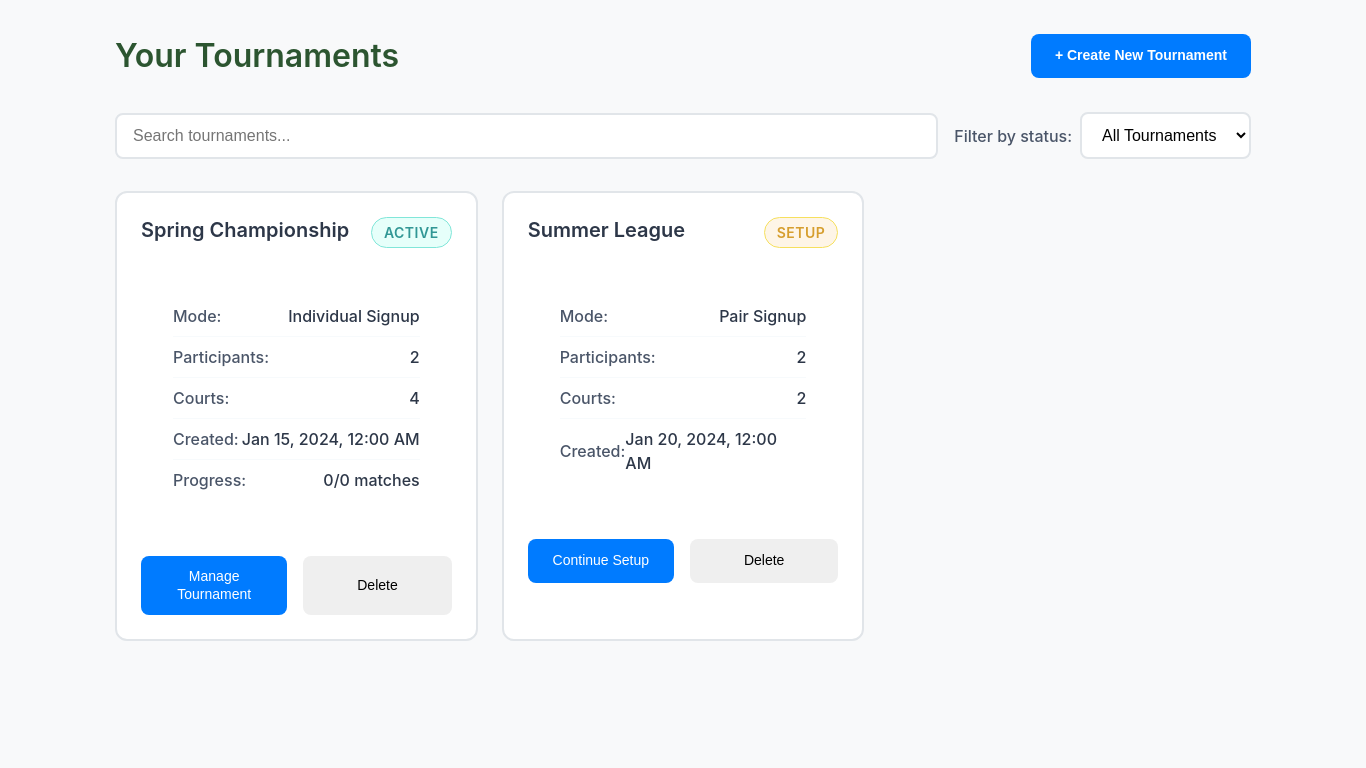
it: TournamentList › filters tournaments by status
This screenshot has width=1366, height=768.
Check: the heading "Spring Championship" is shown, box [141,217,355,243]
Check: the heading "Summer League" is shown, box [528,218,685,242]
Select "Active" in the dropdown showing "All Tournaments" at (1166, 136), box [1080,112,1251,159]
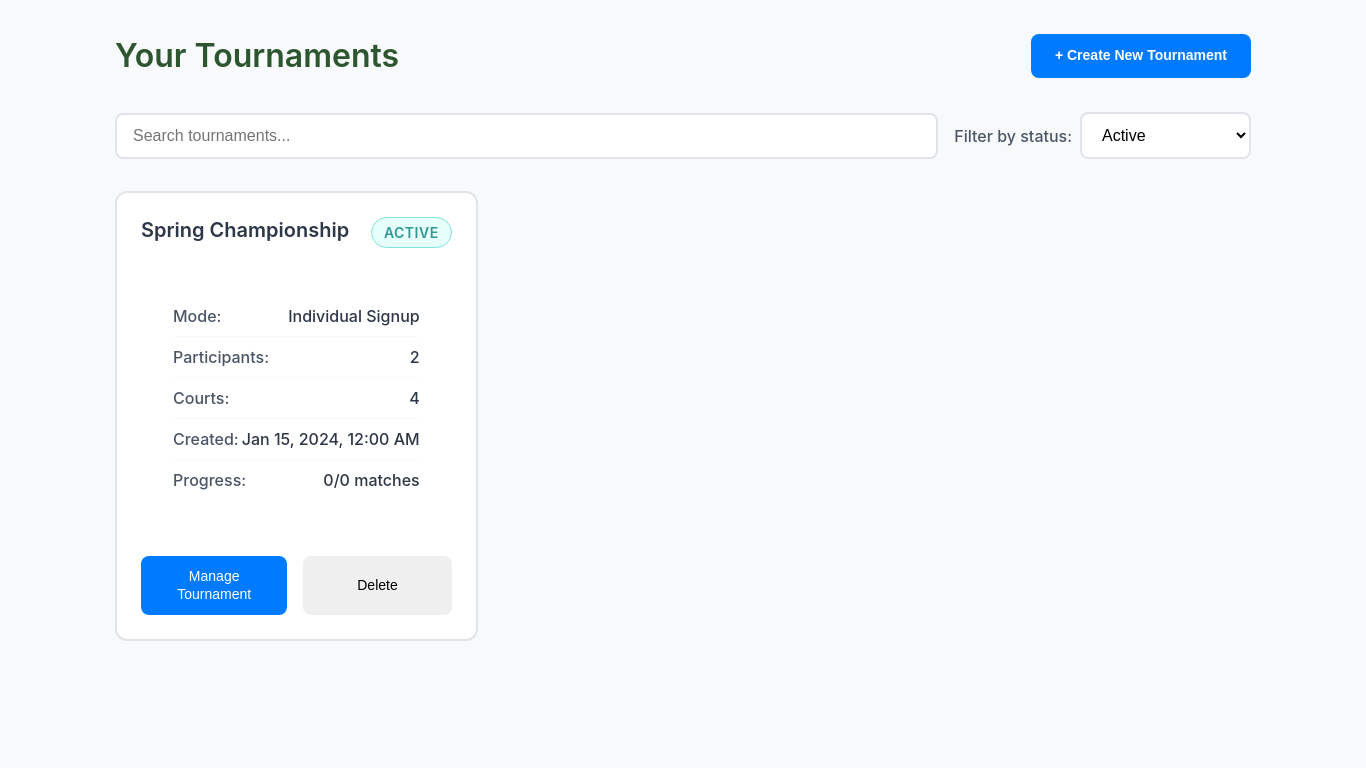
Check: the heading "Spring Championship" is shown, box [141,217,355,243]
Check: the heading "Summer League" is gone
